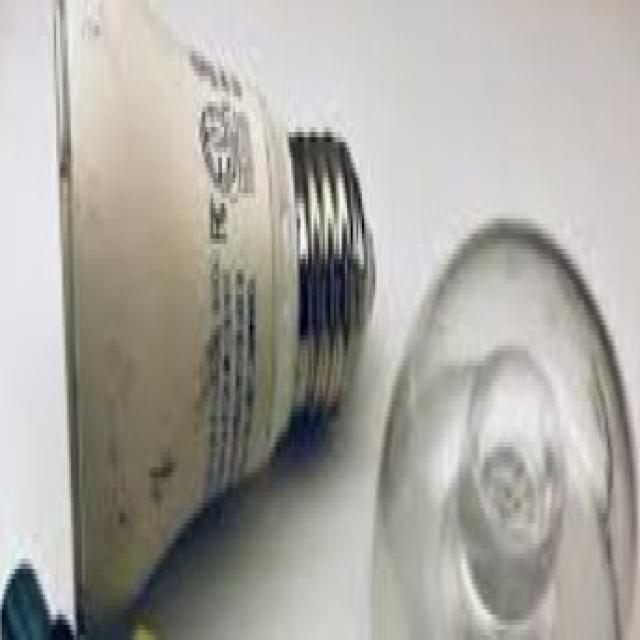electronic: (47, 0, 377, 635), (370, 213, 638, 635)
